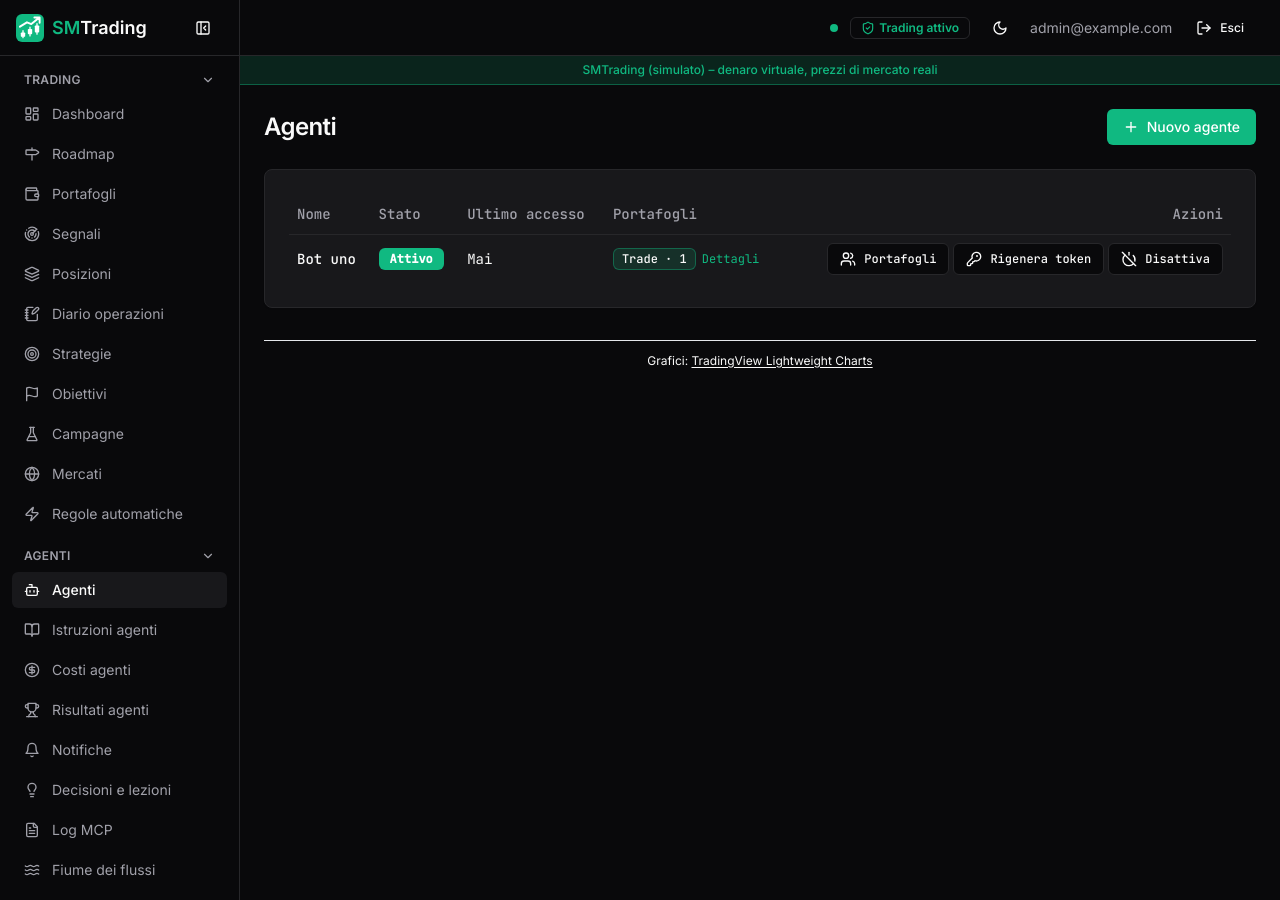
Test case: Agents › shows the new token once and removes it everywhere on close
The width and height of the screenshot is (1280, 900).
Expected: the link "Bot uno" is shown, 297,250 -> 356,268
Click the button "Nuovo agente".
click(1181, 127)  # box 1107,109 -> 1256,145
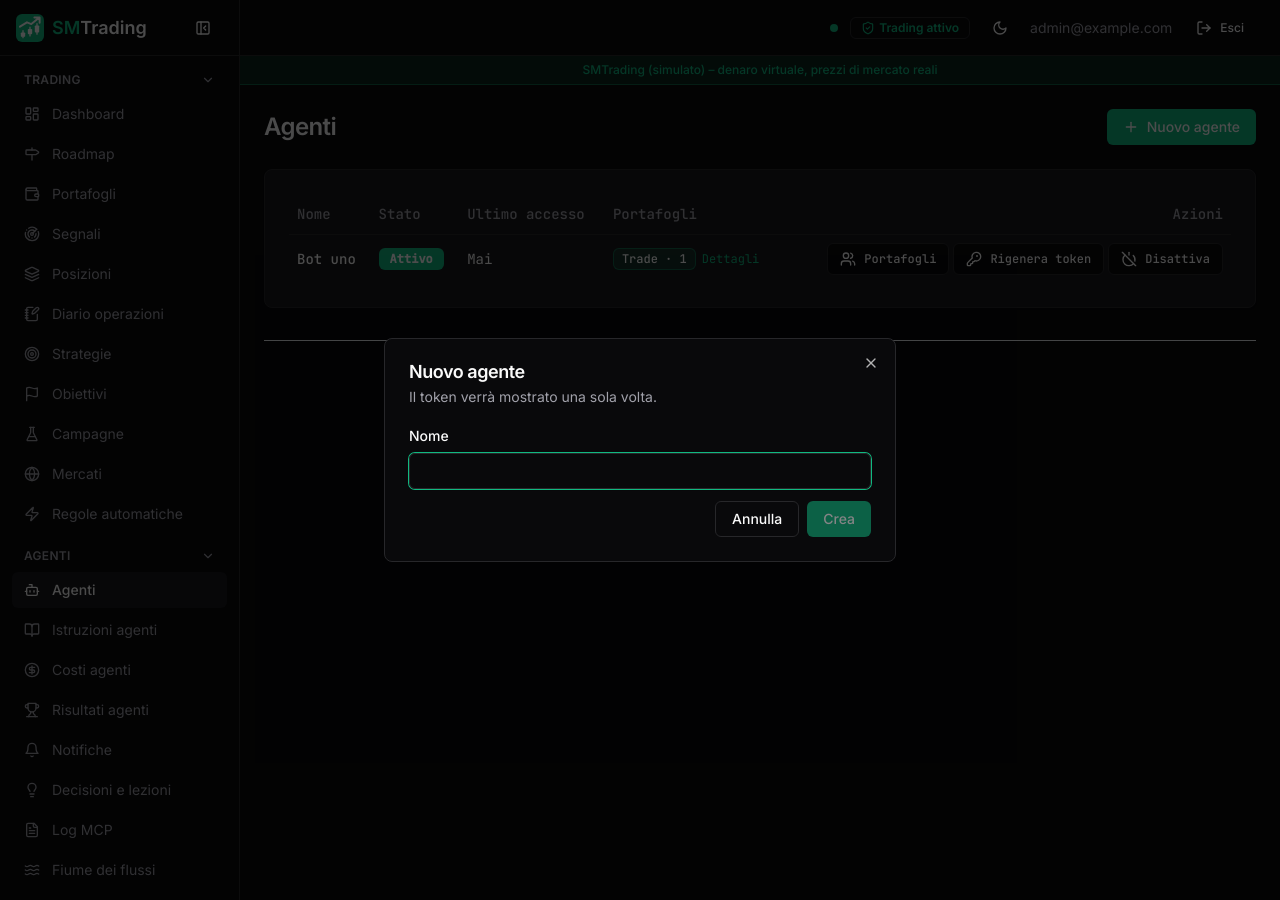
Type "Nuovo" into the field labelled "Nome".
click(640, 471); type("Nuovo")  # box 409,453 -> 871,489
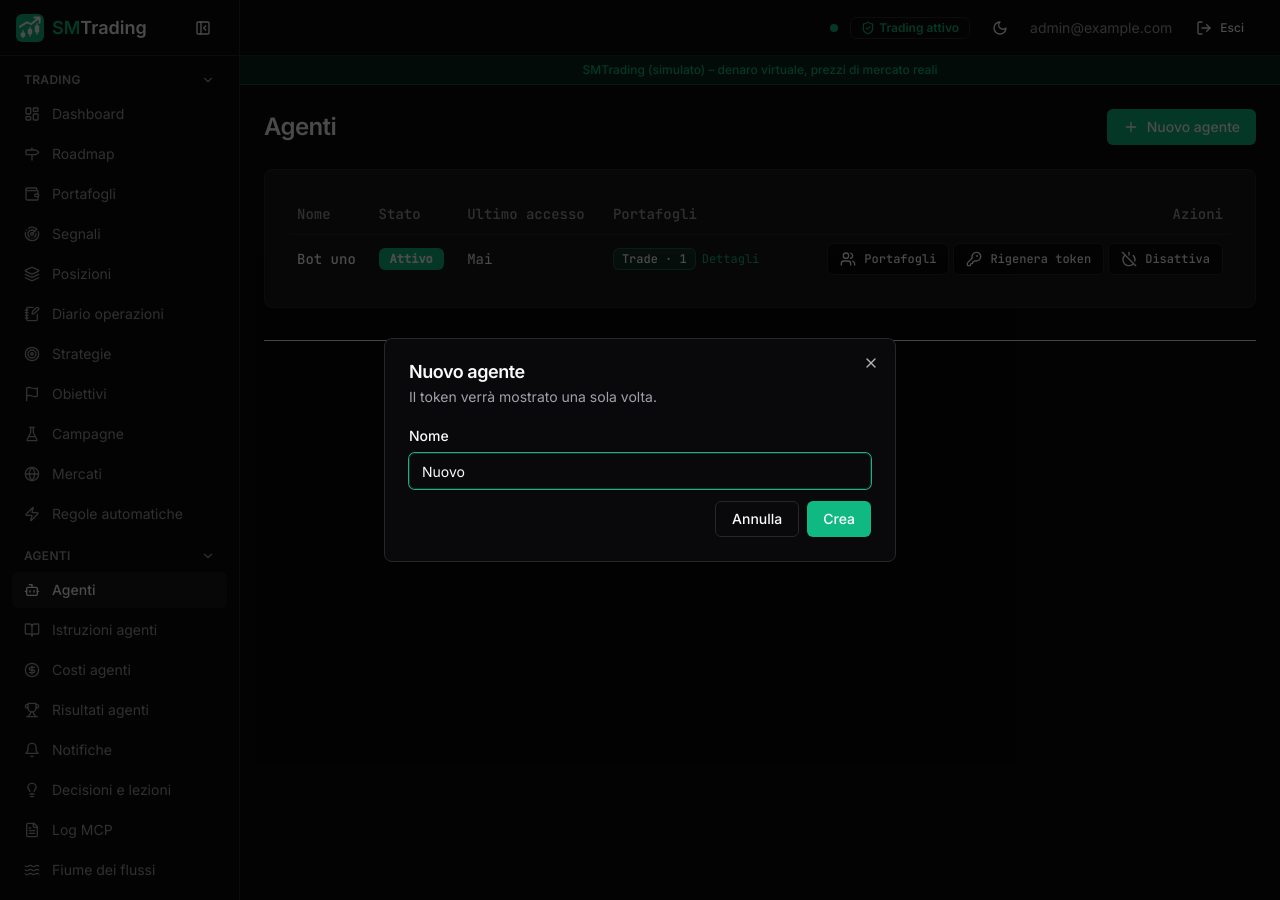
Click the button "Crea".
click(839, 519)  # box 807,501 -> 871,537
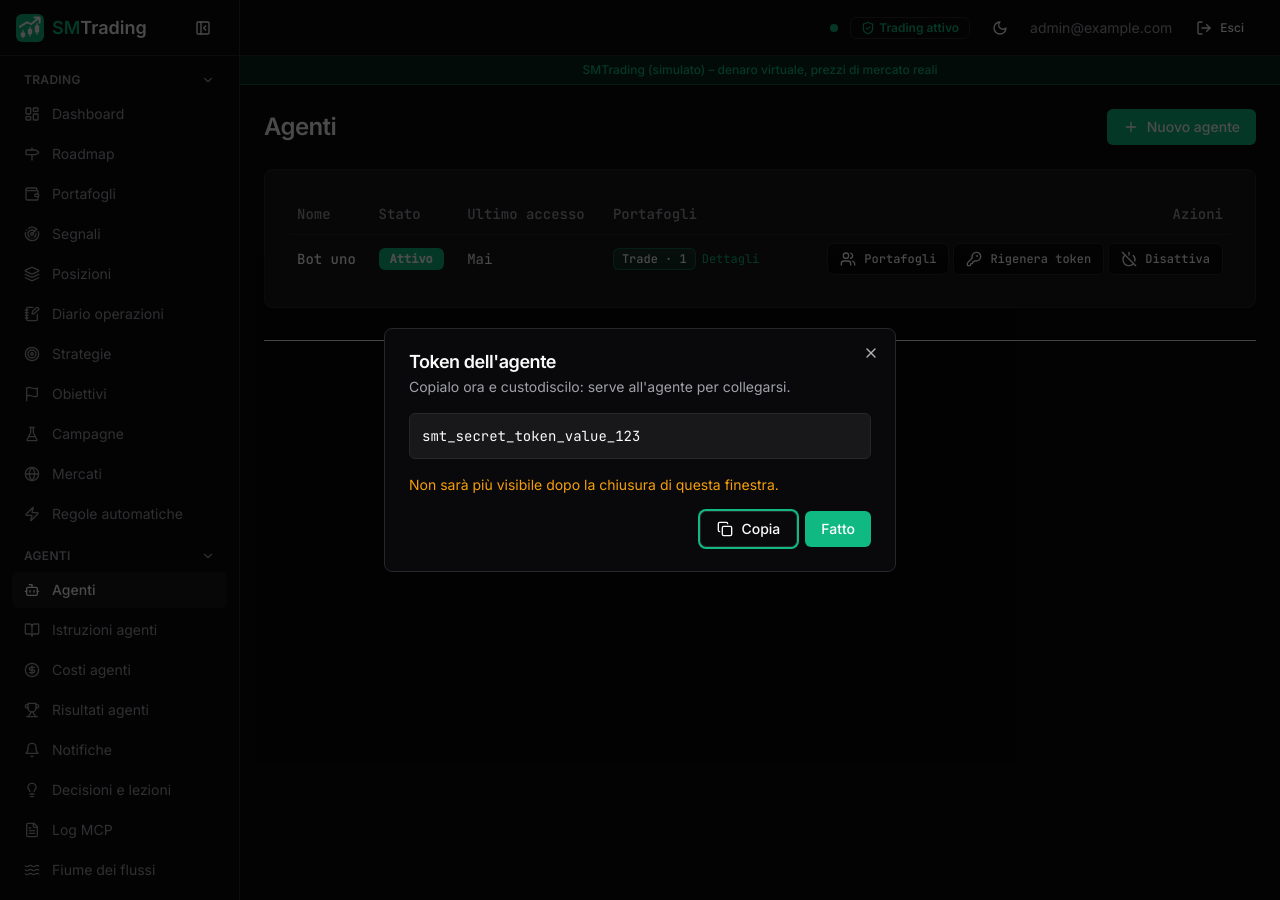
Expected: the text "smt_secret_token_value_123" is shown, 409,413 -> 871,459
Expected: the text "Non sarà più visibile dopo la chiusura di questa finestra." is shown, 409,476 -> 779,493
Expected: the button "Copia" is shown, 700,511 -> 797,547
Click the button "Fatto".
click(838, 529)  # box 805,511 -> 871,547
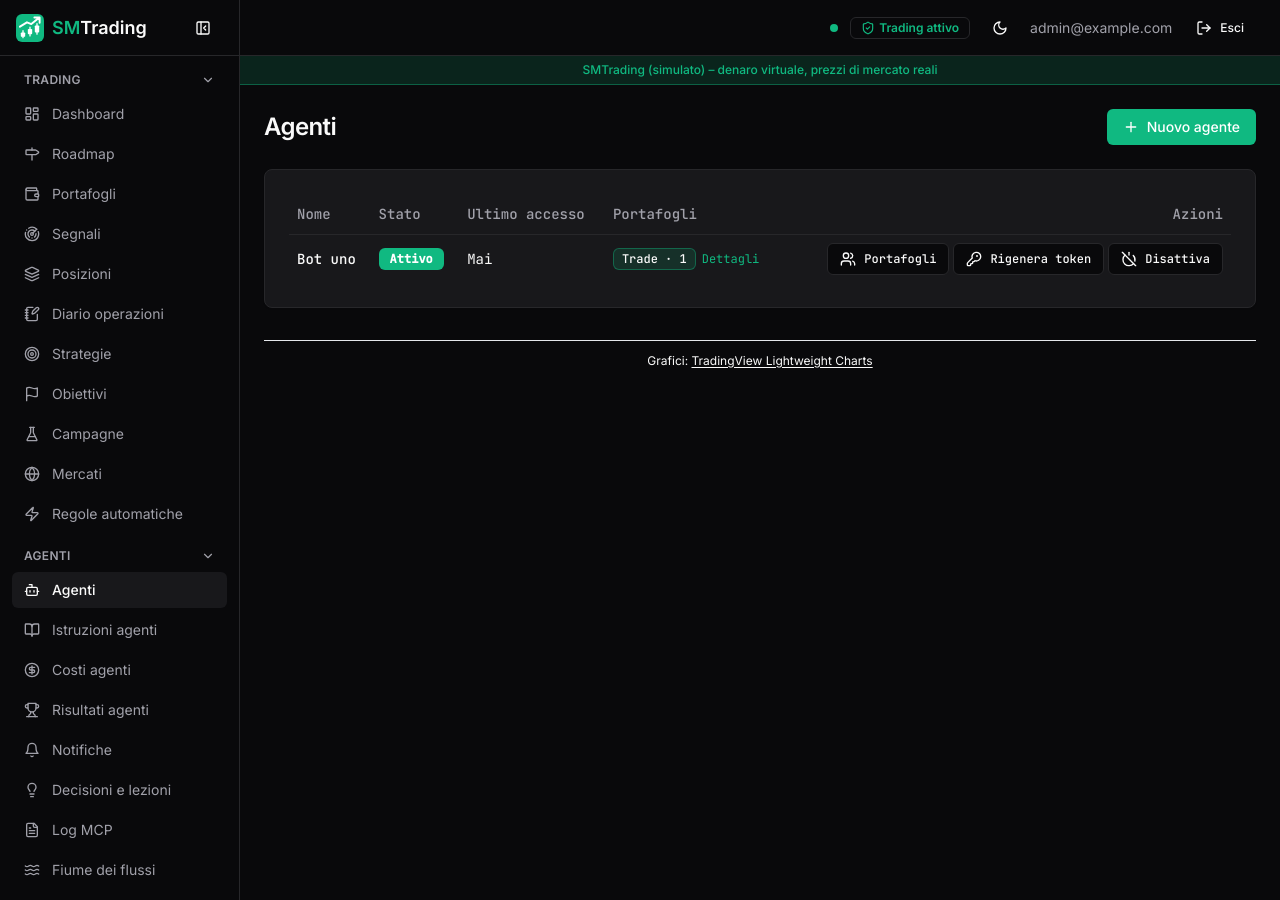
Expected: the text "smt_secret_token_value_123" is gone
